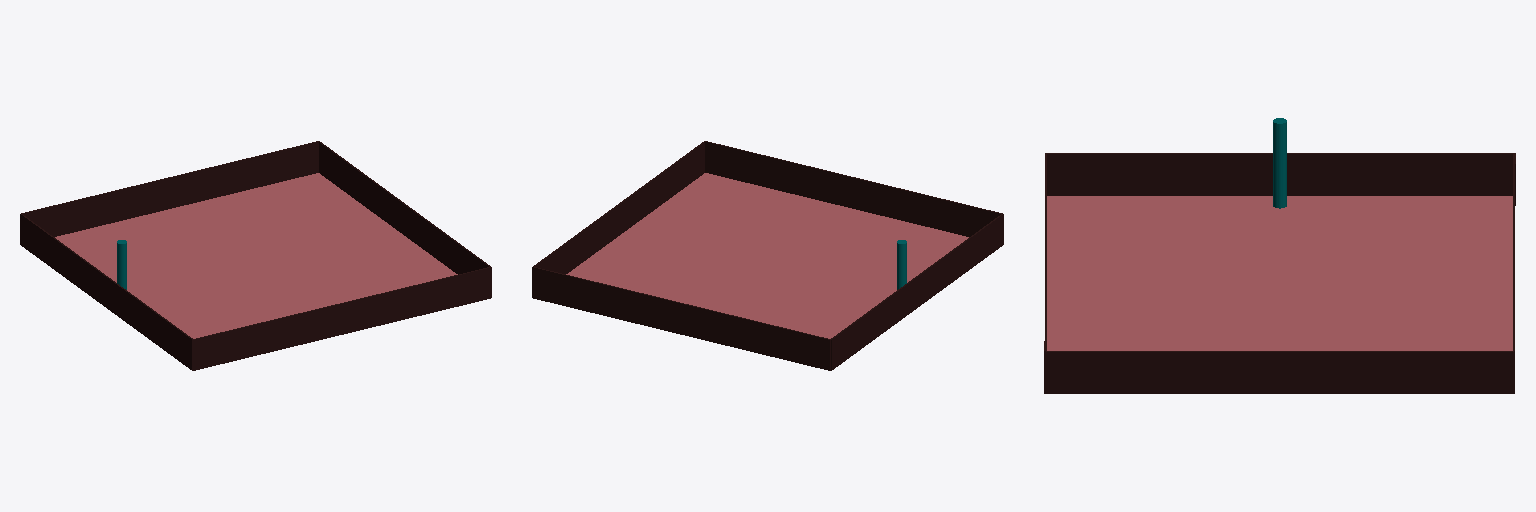
The robot description file, URDF, robot "arena":
<robot name="arena">

  <material name="plane_color" >
    <color rgba="0.6980392156862745 0.402156862745098 0.4196078431372549 1.0" />
  </material>
  <material name="boundary_color" >
    <color rgba="0.20392156862745098 0.10980392156862745 0.10784313725490196 1.0" />
  </material>
  <material name="pole_color" >
    <color rgba="0.0196078431372549 0.4117647058823529 0.4196078431372549 1.0" />
  </material>
  <material name="semi_circle_color" >
    <color rgba="1.0 1.0 1.0 1.0" />
  </material>
  <material name="text_color" >
    <color rgba="1.0 0.7501960784313725 0.48627450980392156 1.0" />
  </material>

  <link name="plane">
    <contact>
        <lateral_friction value="1"/>
    </contact>
    <inertial>
      <origin rpy="0 0 0" xyz="0 0 0"/>
      <mass value=".0"/>
      <inertia ixx="0" ixy="0" ixz="0" iyy="0" iyz="0" izz="0"/>
    </inertial>
    <visual>
      <origin rpy="0 0 0" xyz="0 0 0"/>
      <geometry>
        <box size="20 20 0.01"/>
      </geometry>
      <material name="plane_color"/>
    </visual>
    <collision>
      <origin rpy="0 0 0" xyz="0 0 0"/>
      <geometry>
        <box size="20 20 0.01"/>
      </geometry>
    </collision>
  </link>

  <link name="boundary">
    <inertial>
      <origin xyz="0 0 0" rpy="0 0 0"/>
      <mass value=".0"/>
      <inertia ixx="0" ixy="0" ixz="0" iyy="0" iyz="0" izz="0"/>
    </inertial>
    <visual name="visual_wall_1">
      <origin xyz="0 10 1" rpy="0 0 1.57"/>
      <geometry>
        <box size="0.1 20 2"/>
      </geometry>
      <material name="boundary_color"/>
    </visual>
    <visual name="visual_wall_2">
      <origin xyz="0 -10 1" rpy="0 0 1.57"/>
      <geometry>
        <box size="0.1 20 2"/>
      </geometry>
      <material name="boundary_color"/>
    </visual>
    <visual name="visual_wall_3">
      <origin xyz="10 0 1" rpy="0 0 0"/>
      <geometry>
        <box size="0.1 20 2"/>
      </geometry>
      <material name="boundary_color"/>
    </visual>
    <visual name="visual_wall_4">
      <origin xyz="-10 0 1" rpy="0 0 0"/>
      <geometry>
        <box size="0.1 20 2"/>
      </geometry>
      <material name="boundary_color"/>
    </visual>
    <collision name="collision_wall_1">
      <origin xyz="0 10 1" rpy="0 0 1.57"/>
      <geometry>
        <box size="0.1 20 2"/>
      </geometry>
    </collision>
    <collision name="collision_wall_2">
      <origin xyz="0 -10 1" rpy="0 0 1.57"/>
      <geometry>
        <box size="0.1 20 2"/>
      </geometry>
    </collision>
    <collision name="collision_wall_3">
      <origin xyz="10 0 1" rpy="0 0 0"/>
      <geometry>
        <box size="0.1 20 2"/>
      </geometry>
    </collision>
    <collision name="collision_wall_4">
      <origin xyz="-10 0 1" rpy="0 0 0"/>
      <geometry>
        <box size="0.1 20 2"/>
      </geometry>
    </collision>
  </link>

  <link name="pole">
    <contact>
        <lateral_friction value="1"/>
    </contact>
    <inertial>
      <origin rpy="0 0 0" xyz="-9 0 2"/>
      <mass value=".0"/>
      <inertia ixx="0" ixy="0" ixz="0" iyy="0" iyz="0" izz="0"/>
    </inertial>
    <visual>
      <origin rpy="0 0 0" xyz="-9 0 2"/>
      <geometry>
        <cylinder length="4" radius="0.3"/>
      </geometry>
      <material name="pole_color"/>
    </visual>
    <collision>
      <origin rpy="0 0 0" xyz="-9 0 2"/>
      <geometry>
        <cylinder length="2" radius="0.3"/>
      </geometry>
    </collision>
  </link>  

  <link name="semi_circle">
    <inertial>
      <origin xyz="-6 -5 0" rpy="0 0 1.57"/>
      <mass value=".0"/>
      <inertia ixx="0" ixy="0" ixz="0" iyy="0" iyz="0" izz="0"/>
    </inertial>
    <visual>
      <origin xyz="-6 -5 0" rpy="0 0 1.57"/>
      <geometry>
        <mesh filename="semi_circle.dae" scale="0.18 0.18 0.01"/>
      </geometry>
      <material name="semi_circle_color"/>
    </visual>
    <collision>
      <origin xyz="-6 -5 0" rpy="0 0 1.57"/>
      <geometry>
        <mesh filename="semi_circle.dae" scale="0.18 0.18 0.01"/>
      </geometry>
    </collision>
  </link>

  <link name="text">
    <inertial>
      <origin xyz="-3 0.3 0" rpy="0 0 -1.57"/>
      <mass value=".0"/>
      <inertia ixx="0" ixy="0" ixz="0" iyy="0" iyz="0" izz="0"/>
    </inertial>
    <visual>
      <origin xyz="-3 0.3 0" rpy="0 0 -1.57"/>
      <geometry>
        <mesh filename="text.dae" scale="0.13 0.13 0.0008"/>
      </geometry>
      <material name="text_color"/>
    </visual>
    <collision>
      <origin xyz="-3 0.3 0" rpy="0 0 -1.57"/>
      <geometry>
        <mesh filename="text.dae" scale="0.13 0.13 0.0008"/>
      </geometry>
    </collision>
  </link>

  <joint name="plane_boundary" type="fixed">
    <origin xyz="0 0 0" rpy="0 0 0"/>
    <parent link="plane"/>
    <child link="boundary"/>
  </joint>

  <joint name="plane_pole" type="fixed">
    <origin xyz="0 0 0" rpy="0 0 0"/>
    <parent link="plane"/>
    <child link="pole"/>
  </joint>

  <joint name="plane_semi_circle" type="fixed">
    <origin xyz="0 0 0" rpy="0 0 0"/>
    <parent link="plane"/>
    <child link="semi_circle"/>
  </joint>

  <joint name="plane_text" type="fixed">
    <origin xyz="0 0 0" rpy="0 0 0"/>
    <parent link="plane"/>
    <child link="text"/>
  </joint>

</robot>

--- What the picture shows (computed from the rendered views, not written in the file) ---
Views: 3 orthographic renders of the robot side by side, from view 1: azimuth 30°, elevation 25°; view 2: azimuth 150°, elevation 25°; view 3: azimuth 270°, elevation 25°.
Model arena with 5 links and 4 joints (4 fixed), rooted at plane, posed every joint at zero.
Links seen in each view (by area): view 1: plane, boundary; view 2: plane, boundary; view 3: plane, boundary, pole.
Boxes of the visible links, x1,y1,x2,y2 form: plane: [55, 173, 457, 338]; boundary: [20, 141, 491, 370]; plane: [566, 173, 968, 338]; boundary: [532, 141, 1003, 370]; plane: [1047, 196, 1512, 350]; boundary: [1044, 153, 1515, 393]; pole: [1273, 118, 1286, 208].
Size in the robot's own frame: 20.1 by 20.12 by 4 metres.
Meshes: 2 distinct files referenced, 0 mesh visuals loaded (none loaded); not drawn: 2 (reference not matched to a file when rendering).